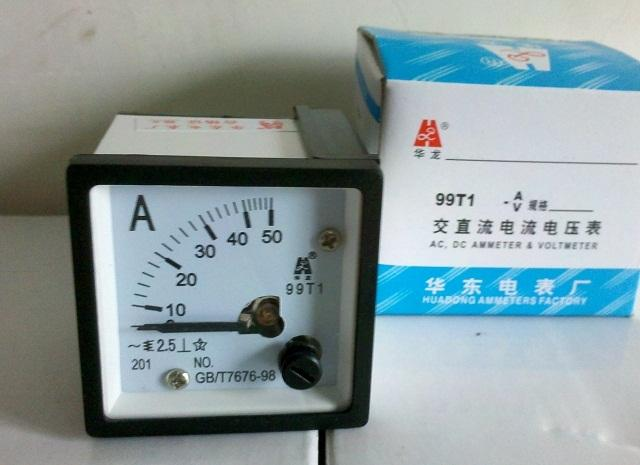pointer: (89, 185, 362, 418)
